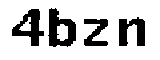4: (8, 4, 46, 52)
b: (46, 4, 81, 58)
n: (116, 14, 153, 50)
z: (80, 13, 111, 50)
